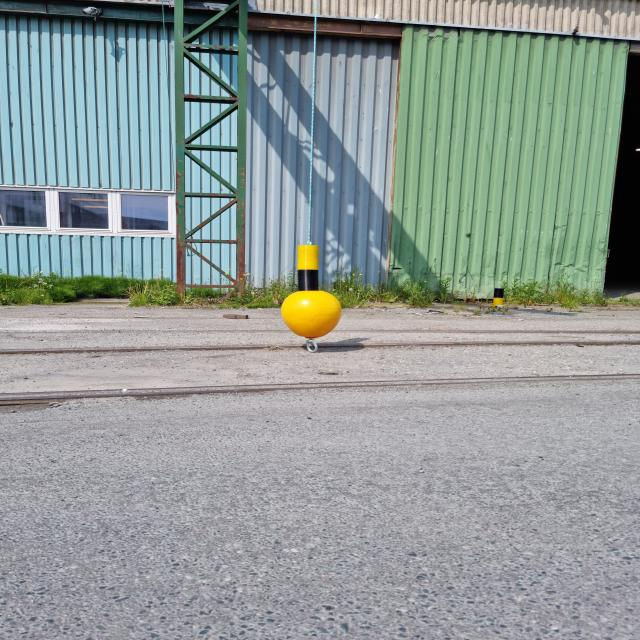west: (280, 245, 340, 338)
